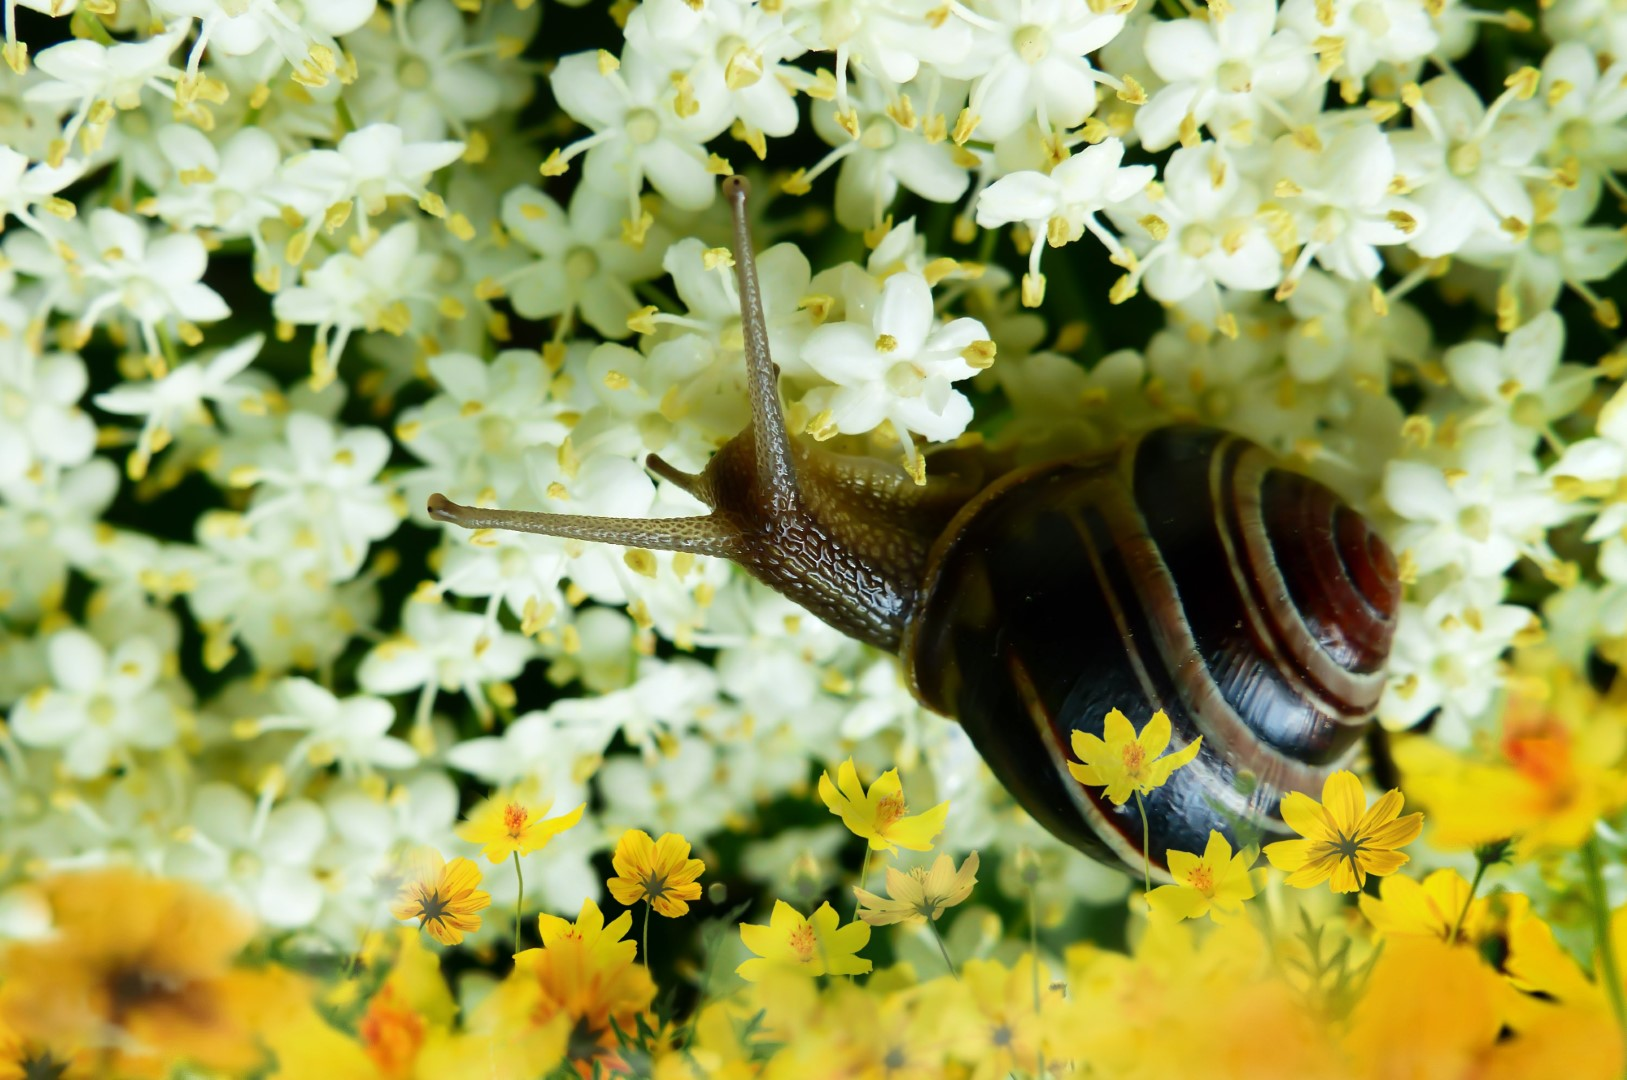snail: (425, 180, 1398, 887)
